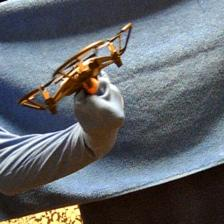drone: (18, 21, 134, 117)
